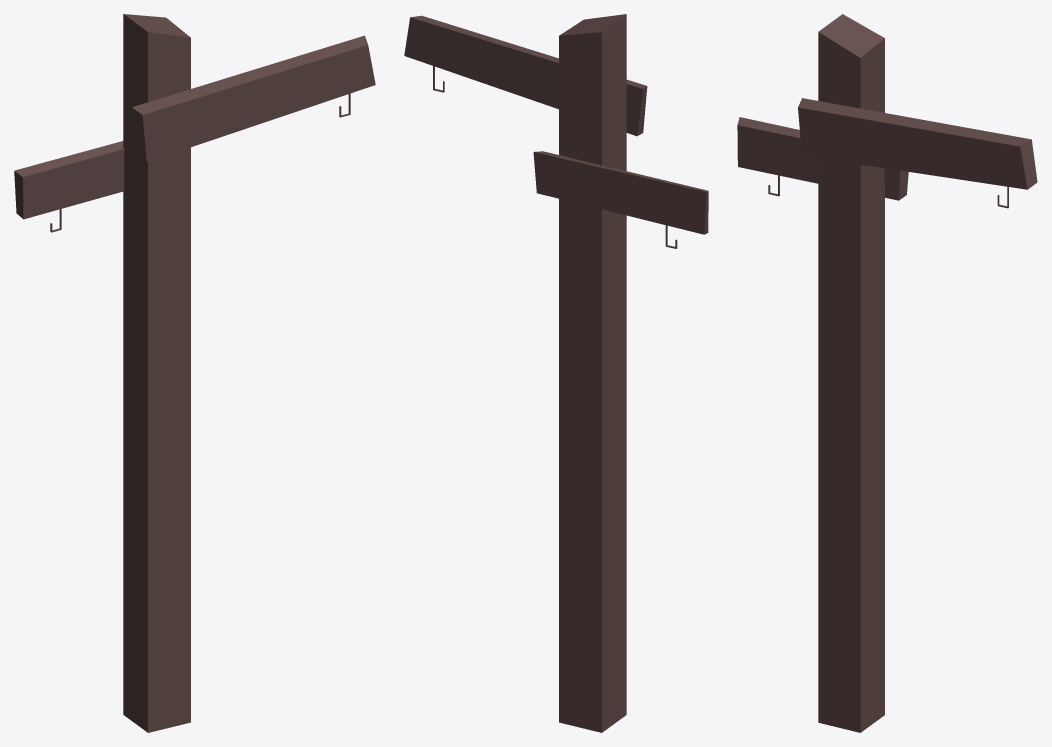
File: pole_1_mat.fbx
The picture shows the model from 3 angles, left to right: view 1: azimuth 30°, elevation 25°; view 2: azimuth 150°, elevation 25°; view 3: azimuth 330°, elevation 25°; orthographic projection.
Visible parts, largest first — view 1: pole_1_mat; view 2: pole_1_mat; view 3: pole_1_mat.
Boxes of the visible parts, box(x1,y1,x2,y2) form: pole_1_mat: box(14, 14, 375, 732); pole_1_mat: box(404, 14, 708, 732); pole_1_mat: box(737, 14, 1037, 732).
Bounding box in the file's own units: 373 × 755 × 74.54.
